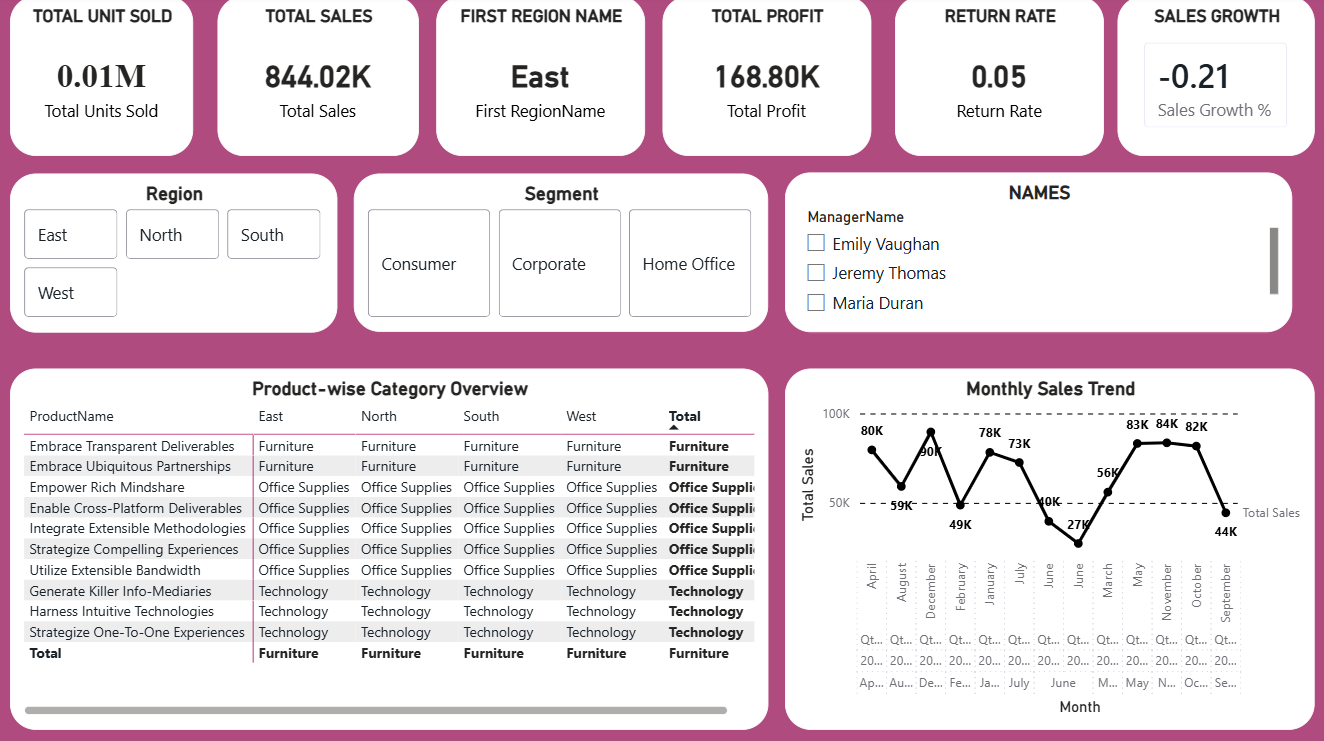

The page's visual inventory and layout, read from the dashboard file:
{"tool":"powerbi","page":{"name":"Dashboard2","canvas":[1280,720],"ordinal":1},"visuals":[{"type":"card","title":"TOTAL UNIT SOLD","fields":{"Values":["Customer_Dim.Total Units Sold"]},"box":[10,0,177.1,154.3],"z":0},{"type":"card","title":"TOTAL PROFIT","fields":{"Values":["Customer_Dim.Total Profit"]},"box":[640,0,201.4,154.3],"z":1000},{"type":"card","title":"FIRST REGION NAME","fields":{"Values":["Min(Region_Dim.RegionName)"]},"box":[421.4,0,201.4,154.3],"z":2000},{"type":"card","title":"TOTAL SALES","fields":{"Values":["Customer_Dim.Total Sales"]},"box":[210,0,194.3,154.3],"z":3000},{"type":"card","title":"RETURN RATE","fields":{"Values":["Customer_Dim.Return Rate"]},"box":[863.3,0,201.8,154.1],"z":4000},{"type":"lineChart","title":"Monthly Sales Trend","fields":{"Y":["Customer_Dim.Total Sales"],"Category":["Date_Dim.Month","Date_Dim.Date.Variation.Date Hierarchy.Year","Date_Dim.Date.Variation.Date Hierarchy.Quarter","Date_Dim.Date.Variation.Date Hierarchy.Month"]},"box":[758.6,347.1,521.4,372.9],"z":5000},{"type":"pivotTable","title":"Product-wise Category Overview","fields":{"Rows":["Product_Dim.ProductName"],"Columns":["Region_Dim.RegionName"],"Values":["Min(Product_Dim.Category)"]},"box":[0,335.7,741.4,372.9],"z":6000},{"type":"advancedSlicerVisual","fields":{"Values":["Customer_Dim.Region"]},"box":[0,171.4,325.7,152.9],"z":7000},{"type":"advancedSlicerVisual","fields":{"Values":["Customer_Dim.Segment"]},"box":[341.4,171.4,400,152.9],"z":8000},{"type":"slicer","title":"NAMES","fields":{"Values":["Region_Dim.ManagerName"]},"box":[757.6,170.1,489.8,154.4],"z":9000},{"type":"cardVisual","title":"SALES GROWTH","fields":{"Data":["Customer_Dim.Sales Growth %"]},"box":[1078.5,0,190.8,154.1],"z":10000}]}

Visuals, with their boxes in screenshot pixels (x1, y1, x2, y2), scaled from the page's 1280x720 canvas onto the 1324x741 screenshot:
"TOTAL UNIT SOLD" card: 10/0/194/159
"TOTAL PROFIT" card: 662/0/870/159
"FIRST REGION NAME" card: 436/0/644/159
"TOTAL SALES" card: 217/0/418/159
"RETURN RATE" card: 893/0/1102/159
"Monthly Sales Trend" lineChart: 785/357/1323/740
"Product-wise Category Overview" pivotTable: 0/345/767/729
advancedSlicerVisual - Customer_Dim.Region: 0/176/337/334
advancedSlicerVisual - Customer_Dim.Segment: 353/176/767/334
"NAMES" slicer: 784/175/1290/334
"SALES GROWTH" cardVisual: 1116/0/1313/159
